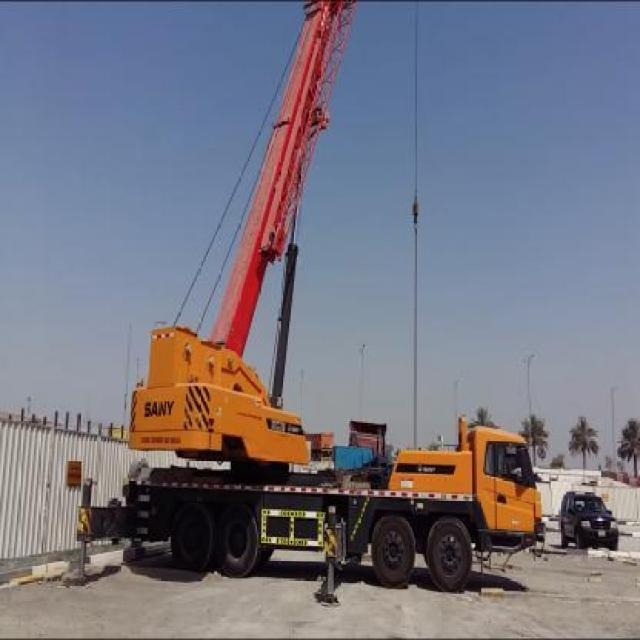Mobile Crane: (64, 0, 542, 602)
